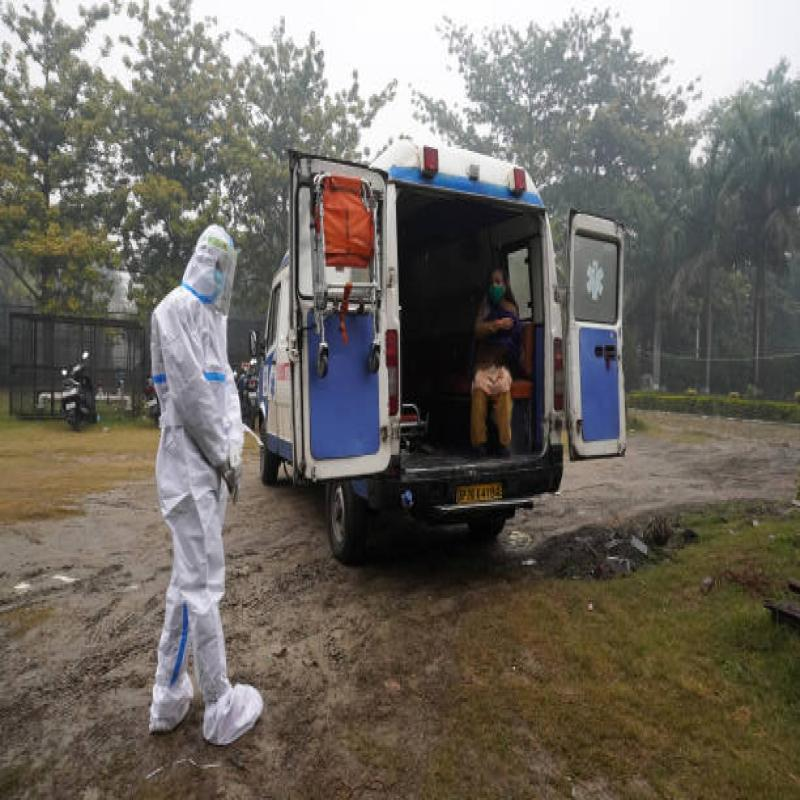ambulance: (270, 139, 621, 551)
